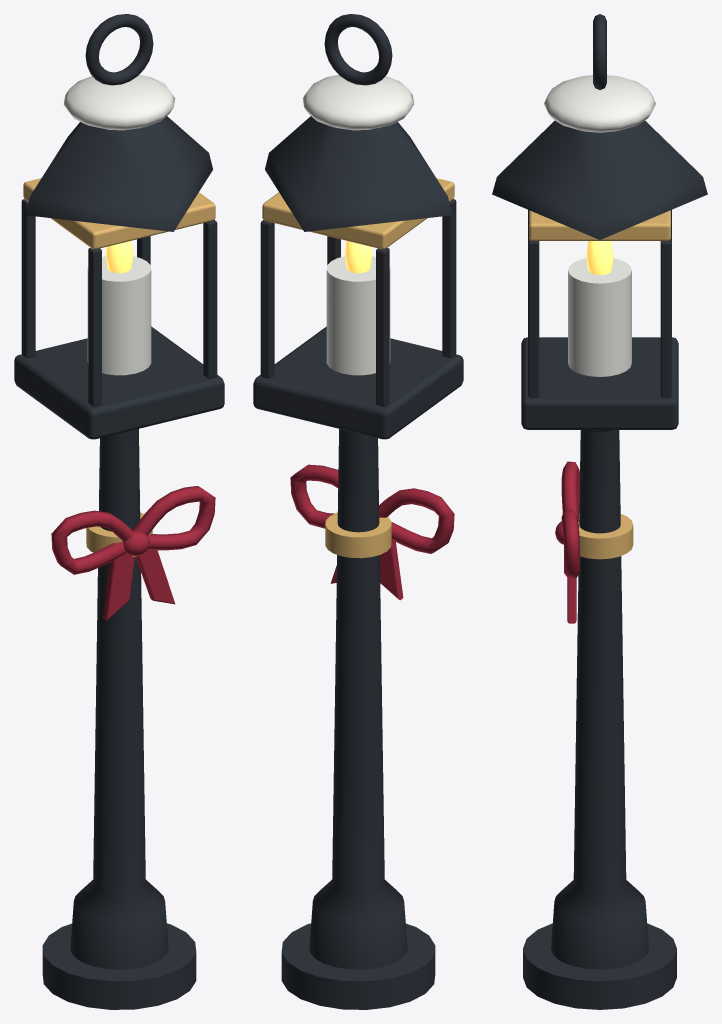
File: christmas-storybook-ornate-streetlamp-c9987c86__18731.glb
3 views of the same model, side by side, from view 1: azimuth 30°, elevation 25°; view 2: azimuth 150°, elevation 25°; view 3: azimuth 270°, elevation 25° (orthographic).
Visible parts, largest first — view 1: ink, cream, berry, brass, light; view 2: ink, cream, berry, brass, light; view 3: ink, cream, brass, berry, light.
Boxes of the visible parts, x1,y1,x2,y2 form: ink: (14,14,224,1009); cream: (63,74,175,375); berry: (51,486,215,620); brass: (23,178,215,556); light: (105,241,133,273); ink: (253,14,463,1009); cream: (302,74,414,375); berry: (290,464,454,600); brass: (262,178,454,558); light: (344,241,372,273); ink: (492,14,707,1009); cream: (544,75,655,376); brass: (529,210,670,559); berry: (555,461,579,623); light: (586,241,613,274).
Size of the model in its own units: 0.6159 by 3.02 by 0.6159.
